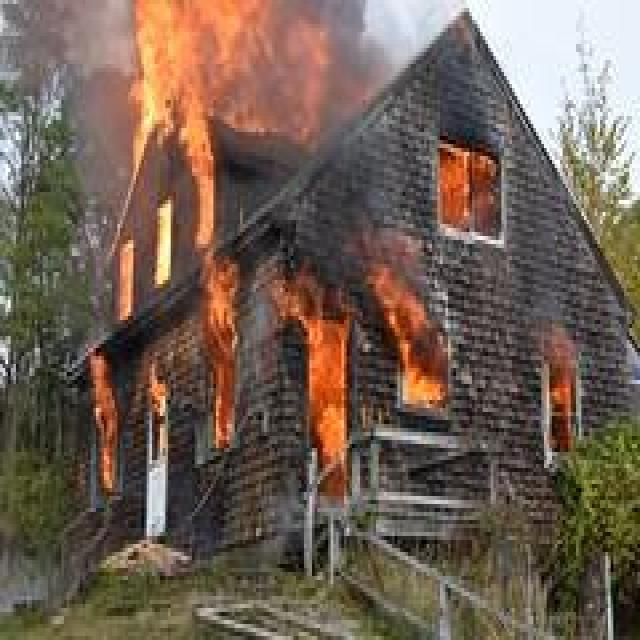fire: (83, 0, 365, 496), (385, 260, 450, 405), (438, 132, 498, 240), (534, 310, 576, 458)
